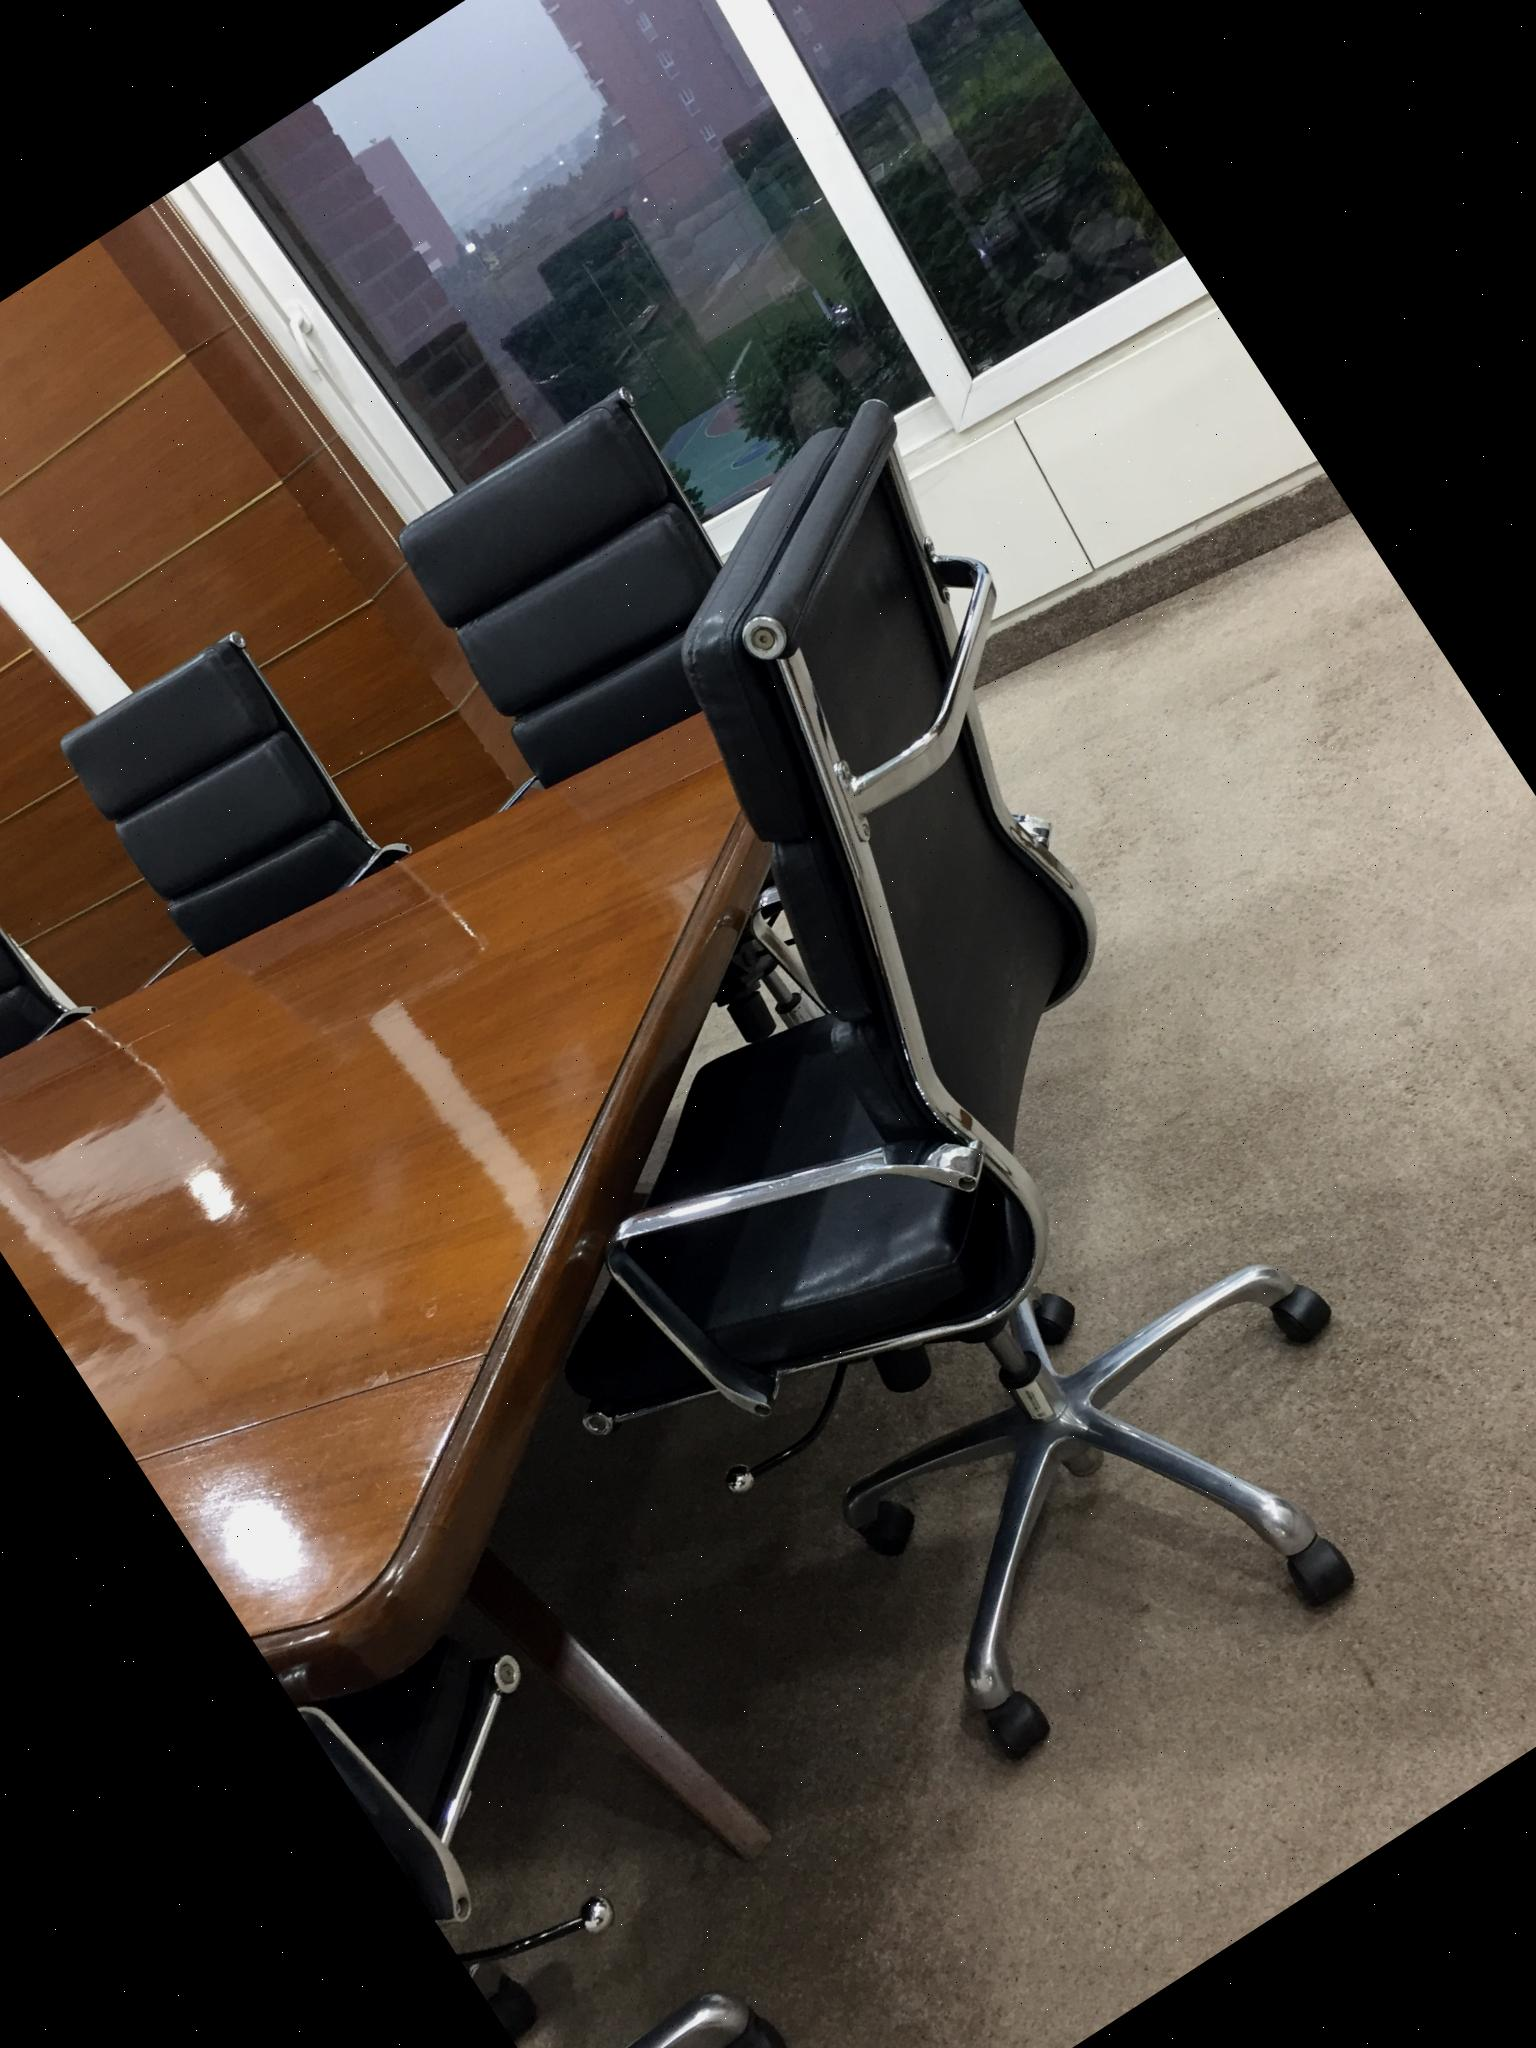chair: (194, 389, 1536, 1892), (339, 379, 971, 1100), (278, 1559, 820, 2048), (34, 610, 431, 1034), (0, 798, 95, 1124)
